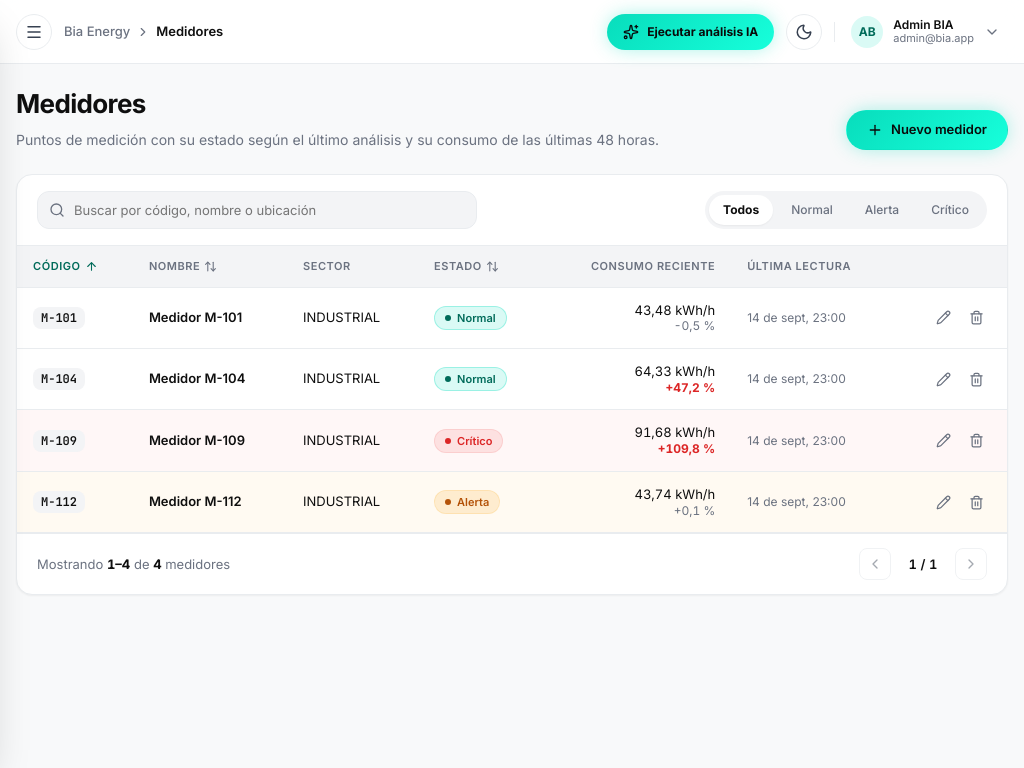
Test: MetersPage › debounces the search before asking the API
Expected: the text "M-101" is shown, [33,307,85,329]
Type "M-112" into the search field named "Buscar medidores". click: (257, 210)
box: [37,191,477,229]
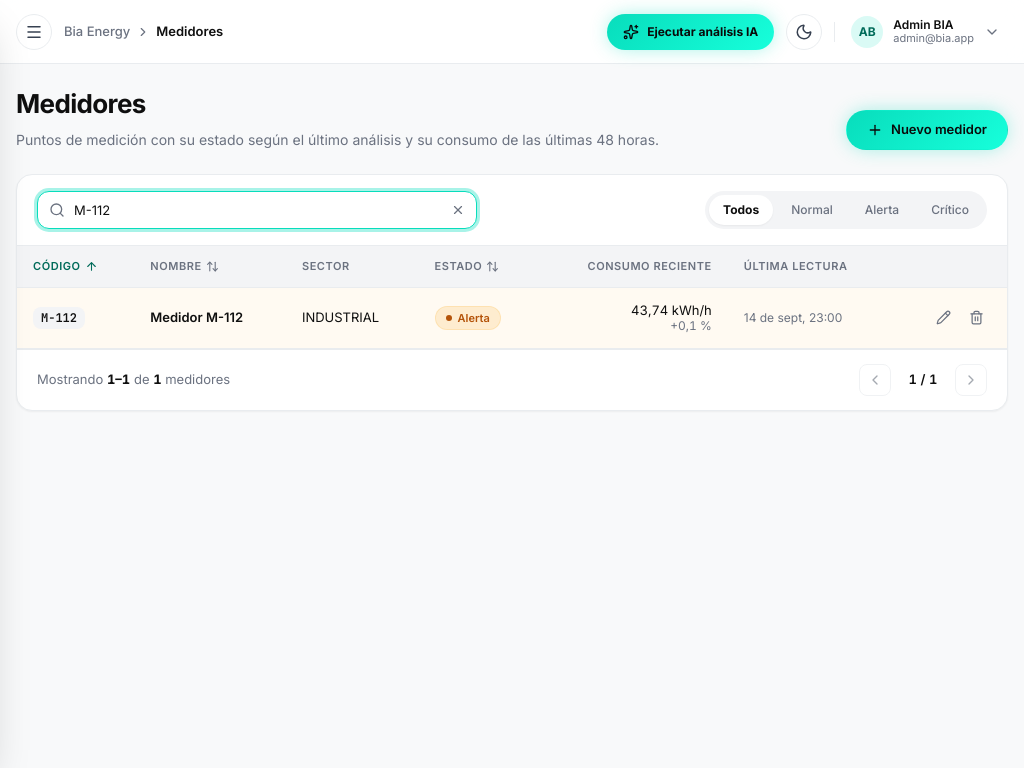
Expected: the text "M-112" is shown, [33,307,85,329]
Expected: the text "M-101" is gone
